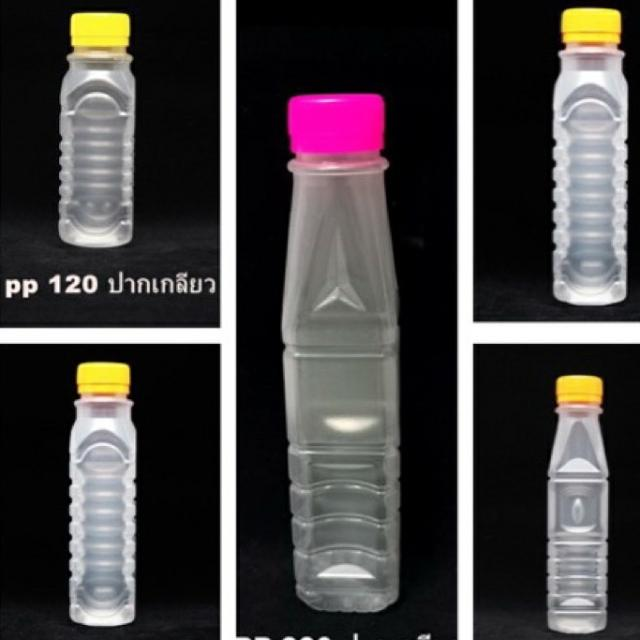Single-Use-Plastic: (282, 94, 400, 612), (552, 8, 628, 305), (59, 12, 135, 247), (69, 362, 136, 626), (548, 375, 609, 633)
